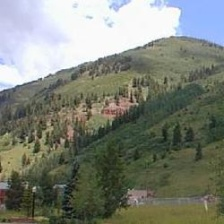neutral: (1, 3, 224, 221)
